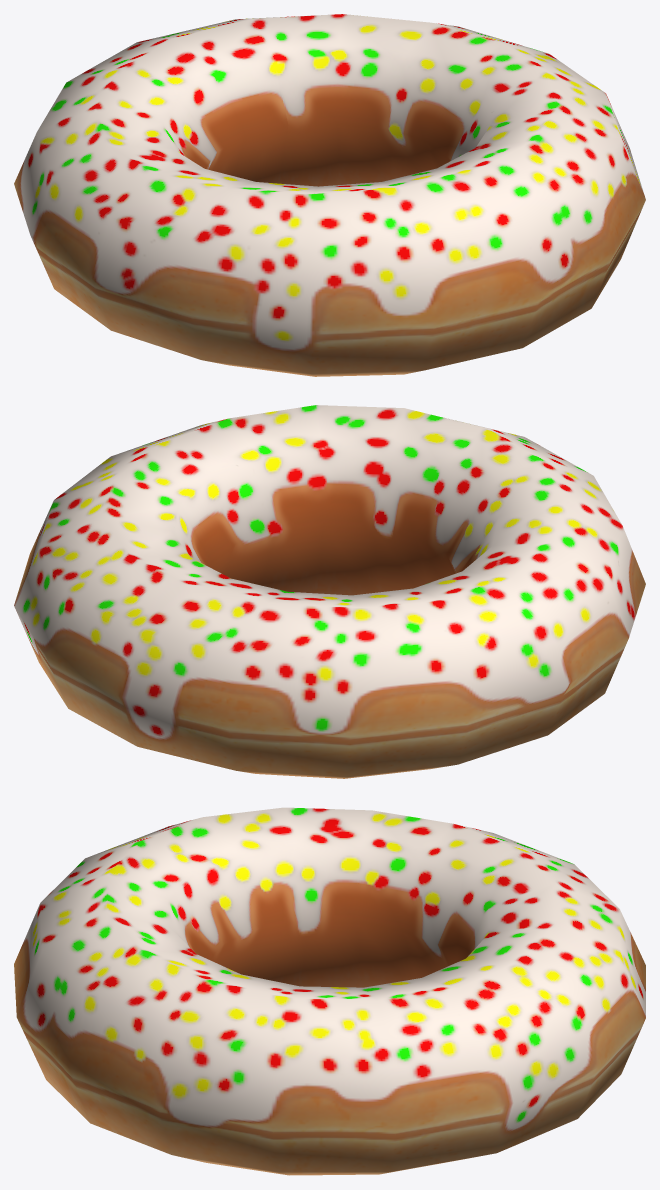
File: BuffetDesserts02_10.FBX
3 views of the same model, one above another, from view 1: azimuth 30°, elevation 25°; view 2: azimuth 150°, elevation 25°; view 3: azimuth 270°, elevation 25° (orthographic).
Visible parts, largest first — view 1: BuffetDesserts02_10; view 2: BuffetDesserts02_10; view 3: BuffetDesserts02_10.
Boxes of the visible parts, x1=… form: BuffetDesserts02_10: x1=14, y1=14, x2=645, y2=376; BuffetDesserts02_10: x1=14, y1=405, x2=645, y2=778; BuffetDesserts02_10: x1=14, y1=807, x2=645, y2=1175.
Size of what is drawn, in the model's own units: 0.1586 by 0.0534 by 0.1607.
